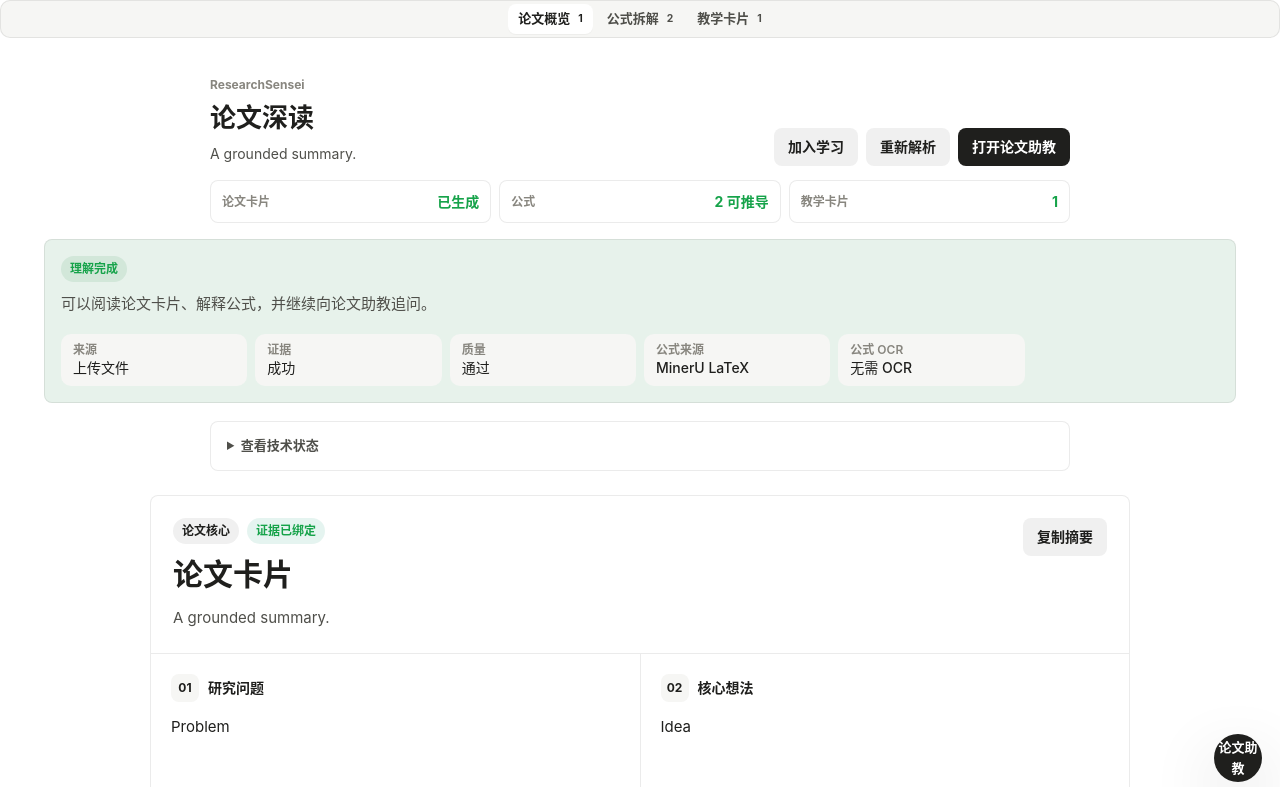
Test case: LearningWorkspaceView › requests cards for SUCCESS and renders paper, formula, and teaching tabs
Check: the element with test id "paper-card" shows "A grounded summary.", box [173,608,330,627]
Click the tab "公式拆解 2" at (640, 19), box [597,4,683,34]
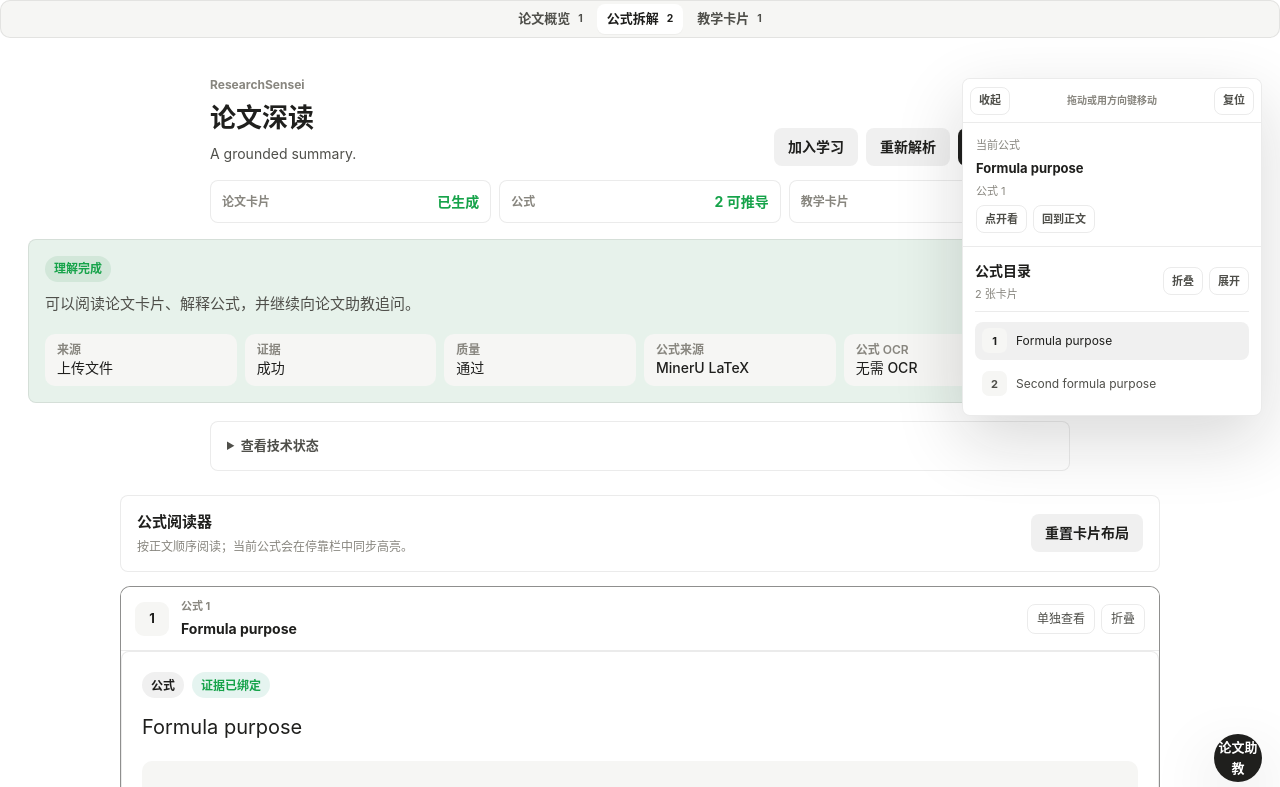
Check: the navigation bar with test id "formula-index" shows "公式目录", box [975,262,1031,280]
Check: the navigation bar with test id "formula-index" shows "Formula purpose", box [975,322,1249,360]
Check: the navigation bar with test id "formula-index" shows "Second formula purpose", box [975,365,1249,403]
Click the tab "教学卡片 1" at (730, 19), box [687,4,772,34]
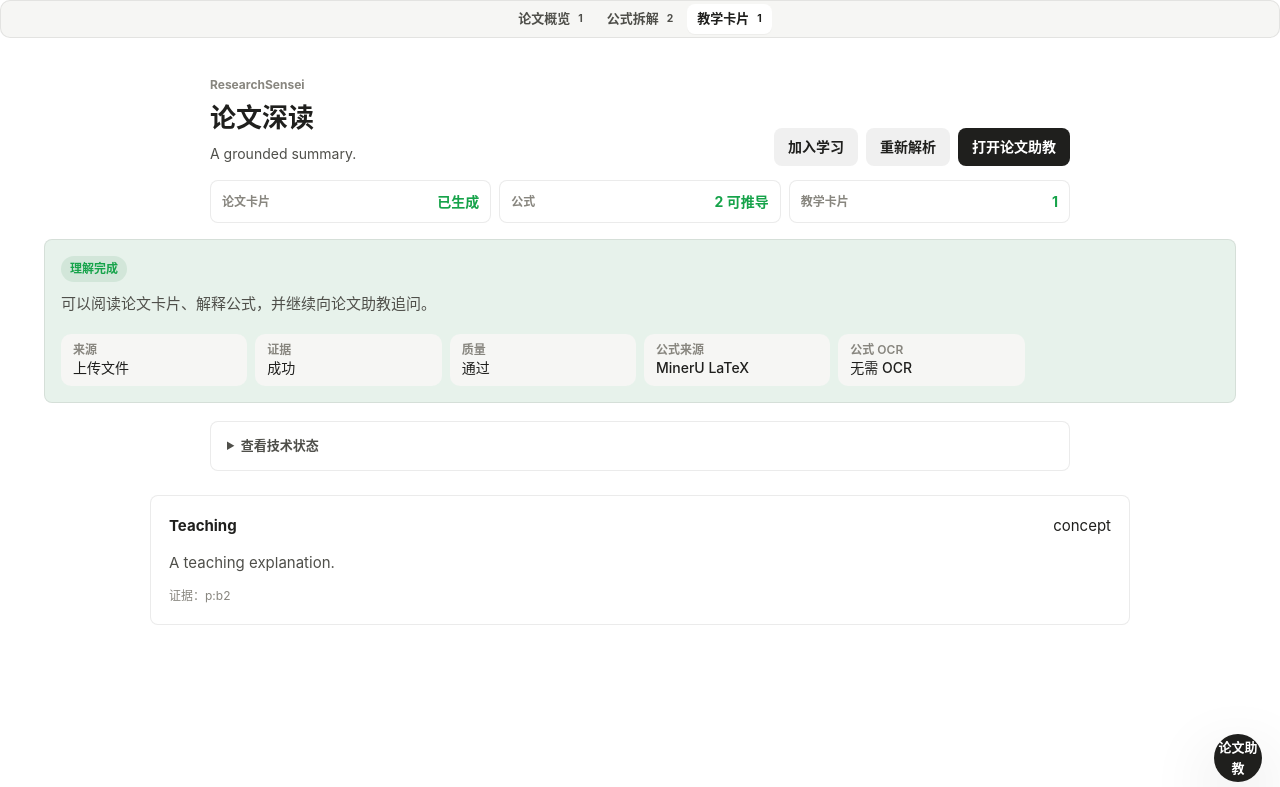
Check: the panel with test id "teaching-cards" shows "p:b2", box [169,588,230,603]
